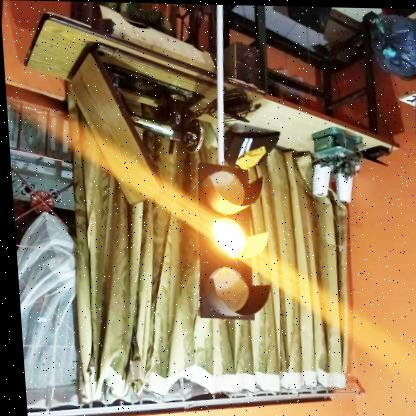Traffic Light -Yellow-: (188, 162, 269, 319)
